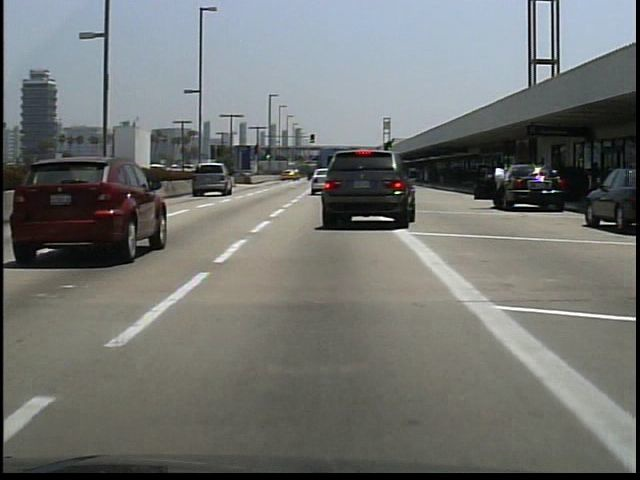person: (492, 157, 509, 214)
